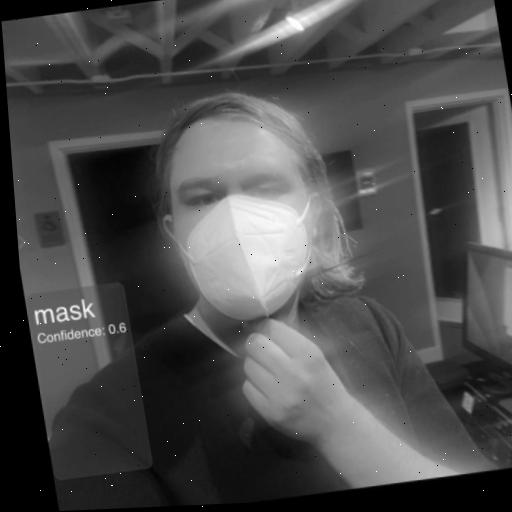mask: (123, 73, 359, 345)
